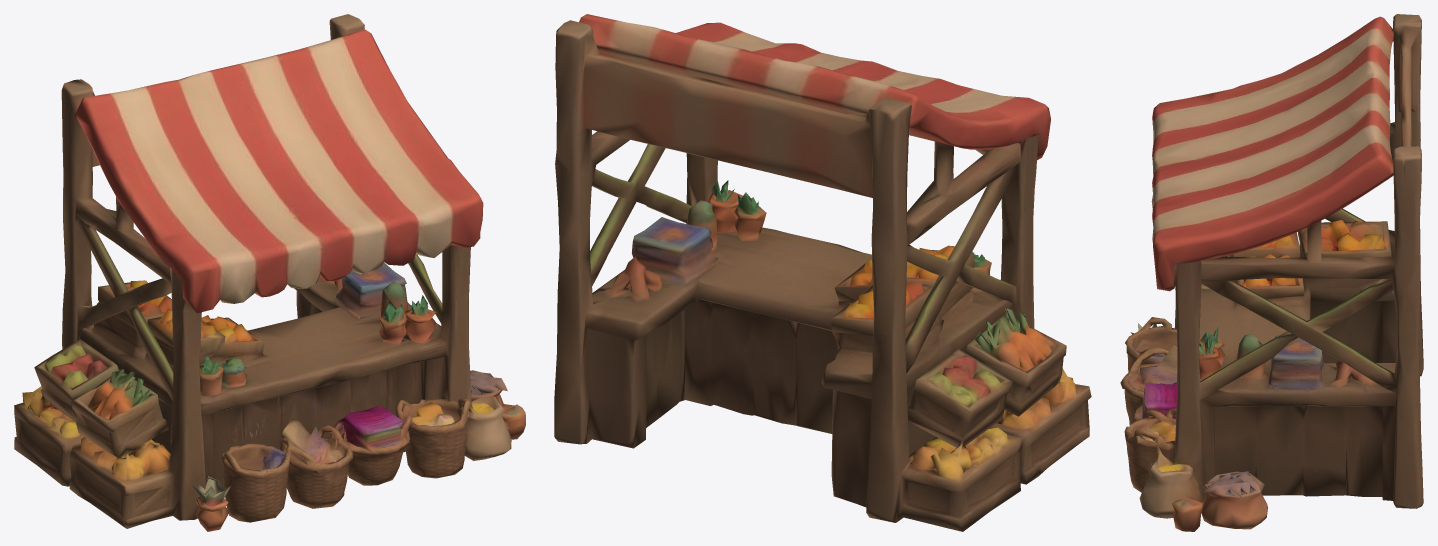
Rendered from anambra_market_stall.glb.
3 views of the same model, side by side, from view 1: azimuth 30°, elevation 25°; view 2: azimuth 150°, elevation 25°; view 3: azimuth 270°, elevation 25° (orthographic). The views are drawn at different scales.
Visible parts, largest first — view 1: tripo_node_82fc7471-dd6b-4513-9f3e-ce4560e24994; view 2: tripo_node_82fc7471-dd6b-4513-9f3e-ce4560e24994; view 3: tripo_node_82fc7471-dd6b-4513-9f3e-ce4560e24994.
Boxes of the visible parts, x1,y1,x2,y2 form: tripo_node_82fc7471-dd6b-4513-9f3e-ce4560e24994: (14, 14, 525, 531); tripo_node_82fc7471-dd6b-4513-9f3e-ce4560e24994: (554, 14, 1091, 531); tripo_node_82fc7471-dd6b-4513-9f3e-ce4560e24994: (1120, 14, 1423, 531).
Bounding box in the file's own units: 1 × 0.8321 × 0.6502.
Materials: 1 (1 with a texture image).
